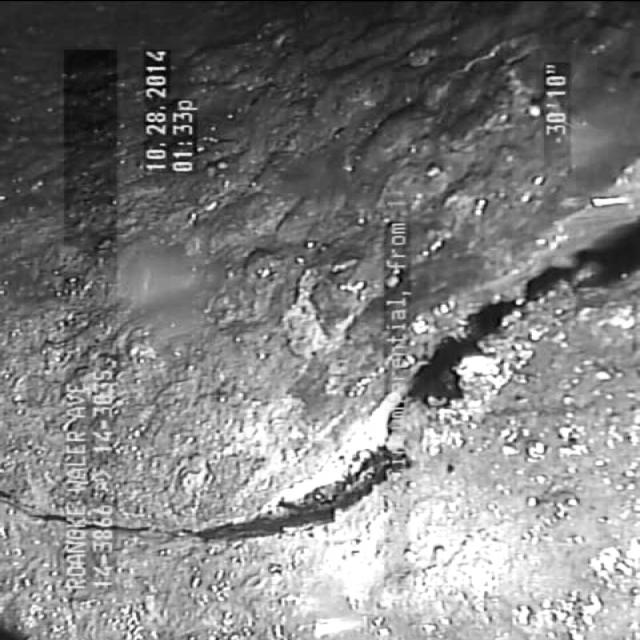Fracture: (186, 236, 594, 548)
